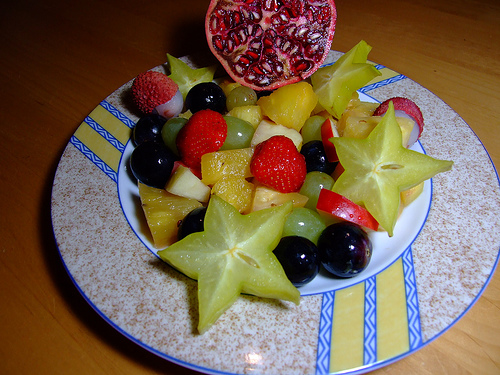pomogranate: (203, 0, 338, 90)
